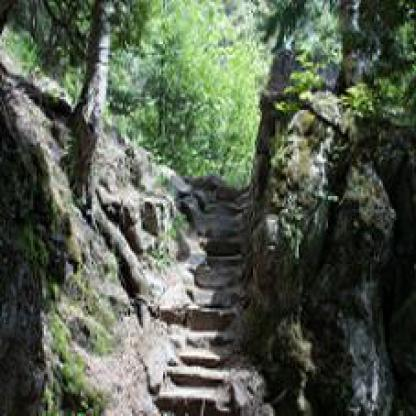stair_up: (172, 206, 240, 406)
